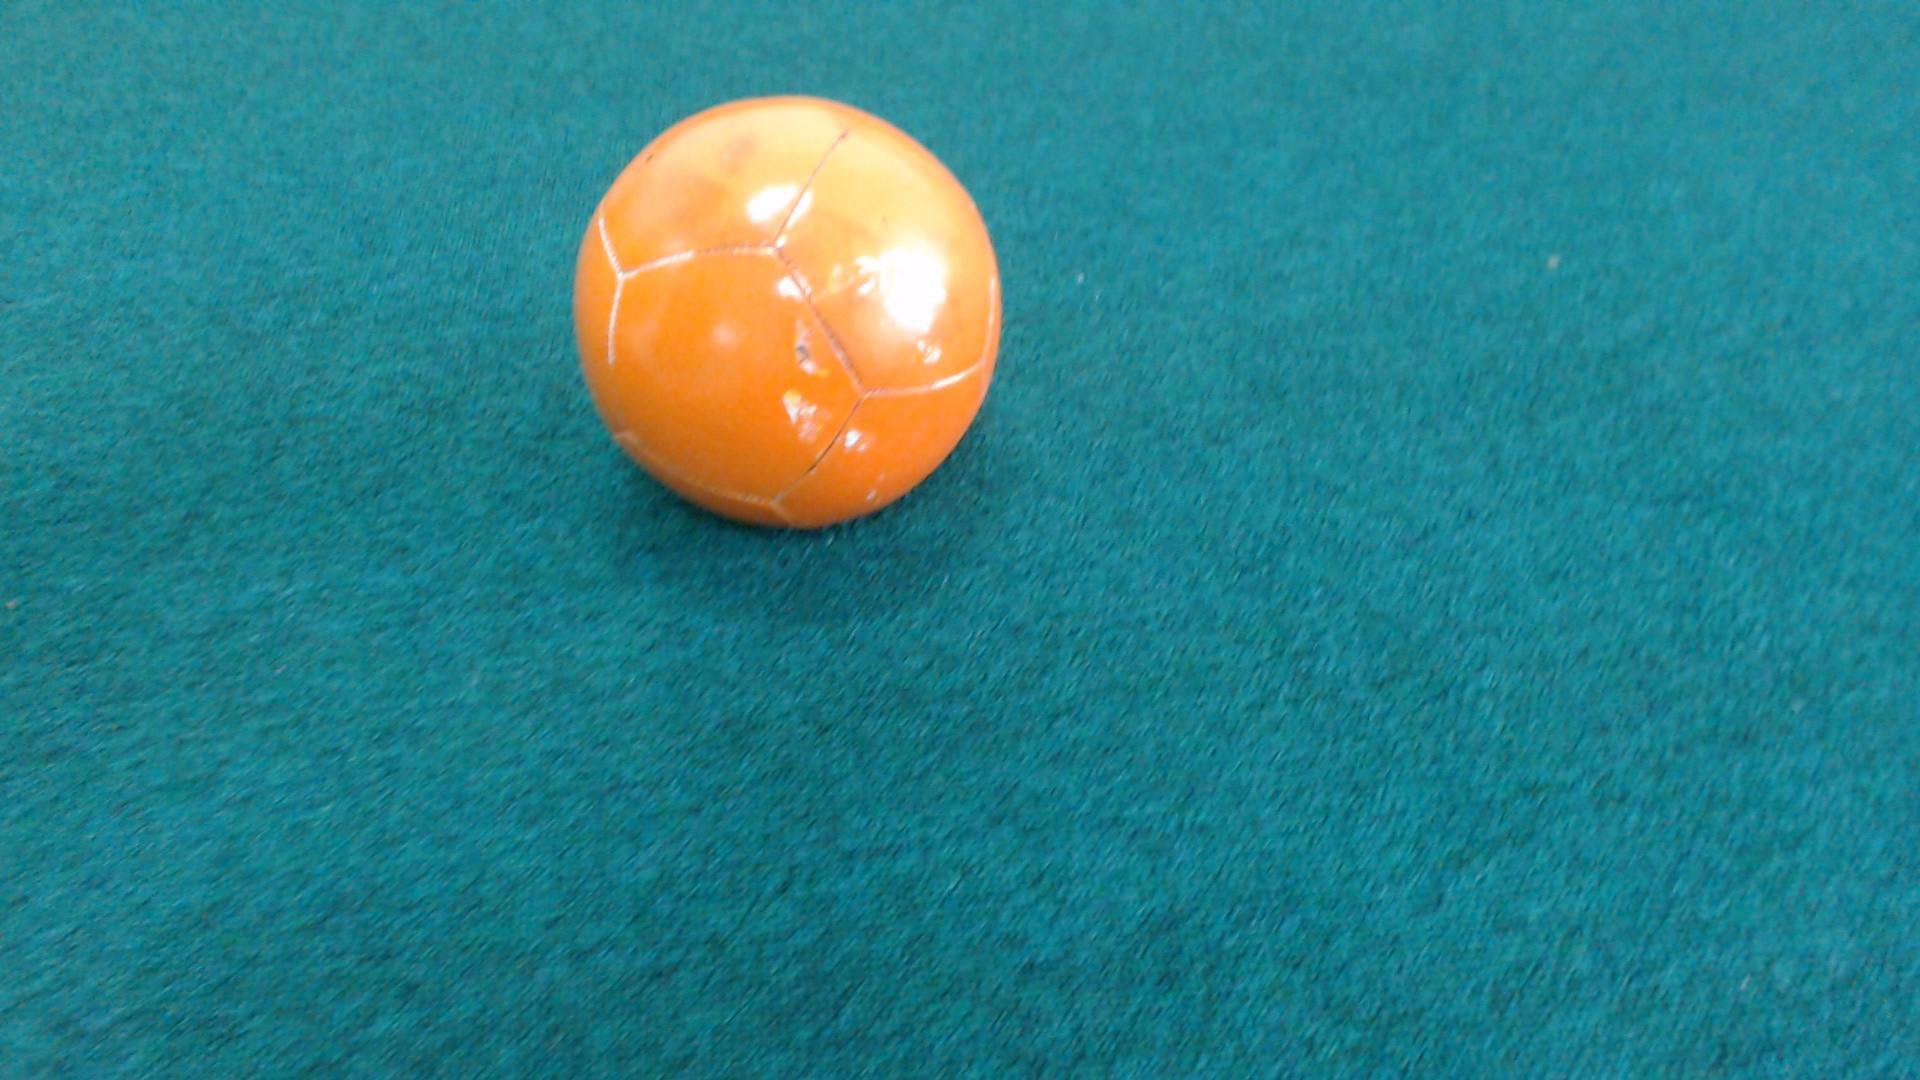bola: (530, 74, 1050, 592)
